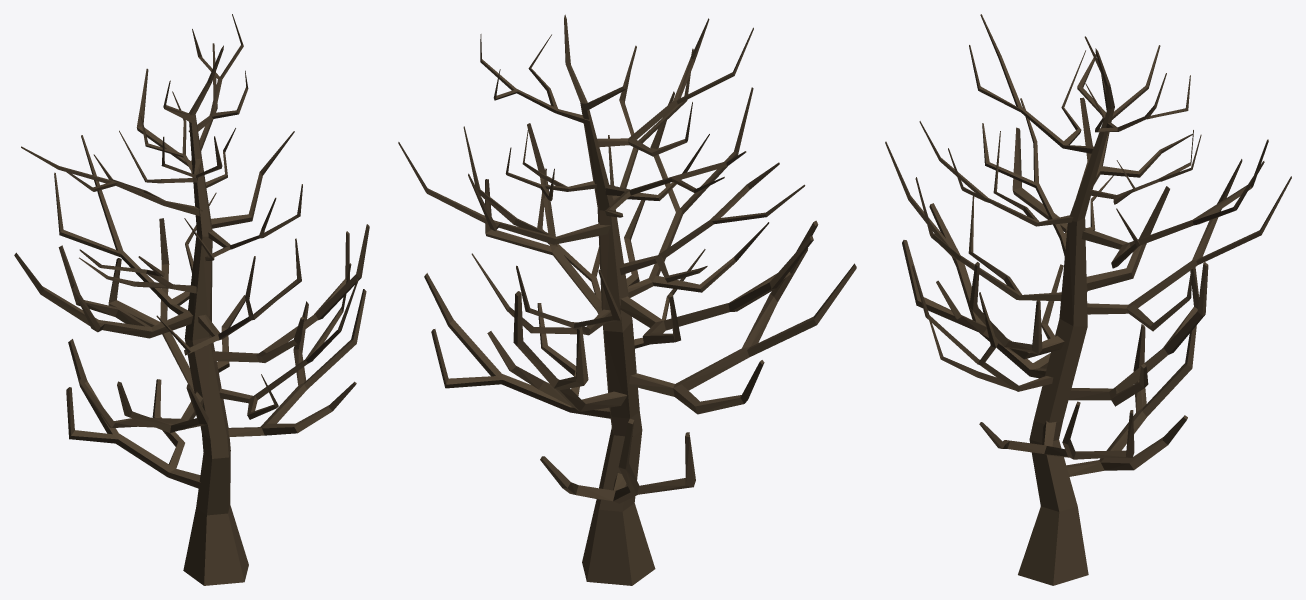
File: tree_dead.glb
The picture shows the model from 3 angles, left to right: view 1: azimuth 30°, elevation 25°; view 2: azimuth 150°, elevation 25°; view 3: azimuth 270°, elevation 25°; orthographic projection. The views are drawn at different scales.
Parts seen in each view (by area): view 1: SM_Env_TreeDead_01; view 2: SM_Env_TreeDead_01; view 3: SM_Env_TreeDead_01.
Boxes of the visible parts, x1,y1,x2,y2 form: SM_Env_TreeDead_01: (14,14,369,585); SM_Env_TreeDead_01: (398,14,856,585); SM_Env_TreeDead_01: (885,14,1291,585).
Size of the model in its own units: 474 by 657 by 453.
1 material, 1 textured.
